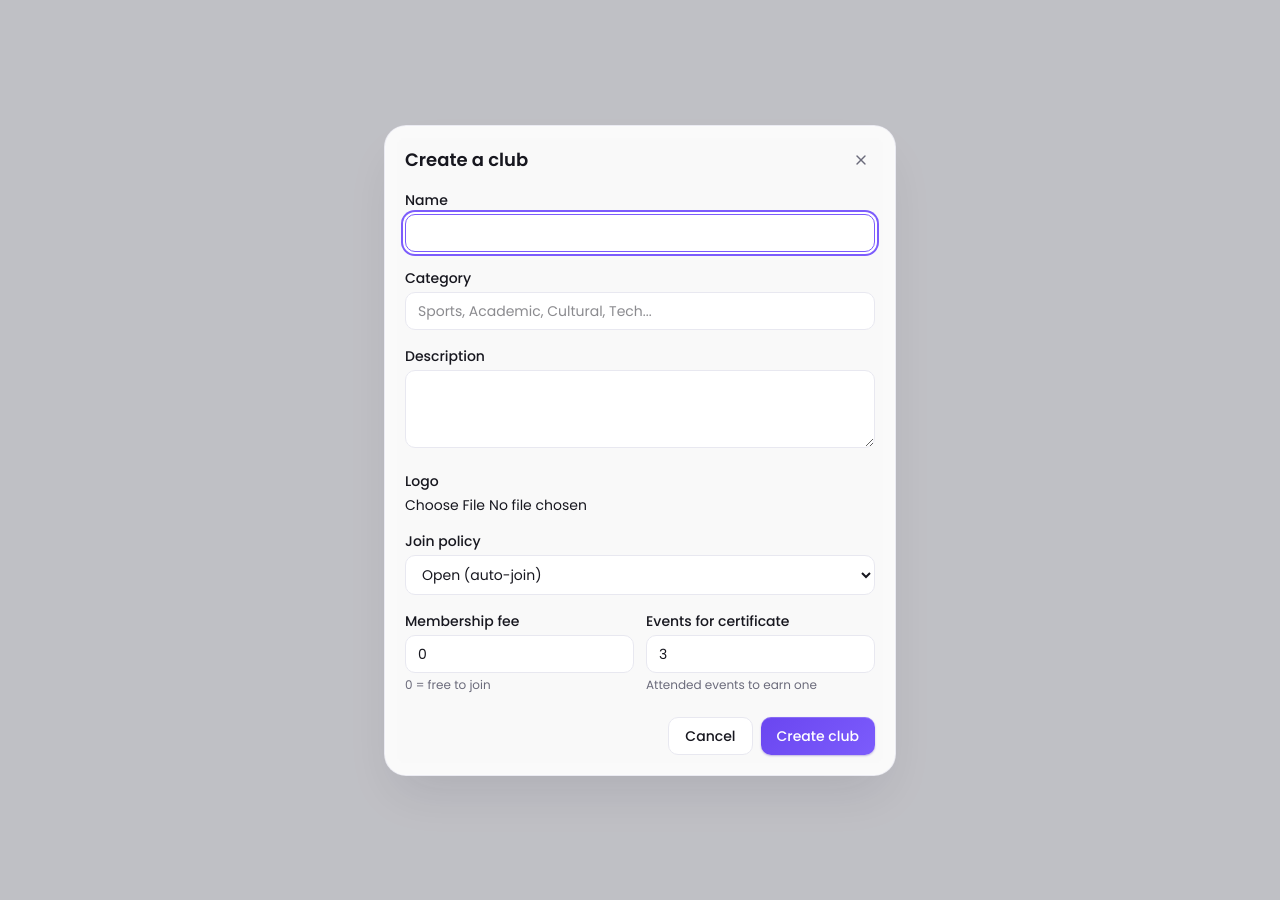
Scenario: CreateClubModal › shows a validation error when required fields are missing
What coordinates should you click on to do the following:
click the button "Create club"
I would click on:
 (818, 736)
Its box is [760,716,875,754].
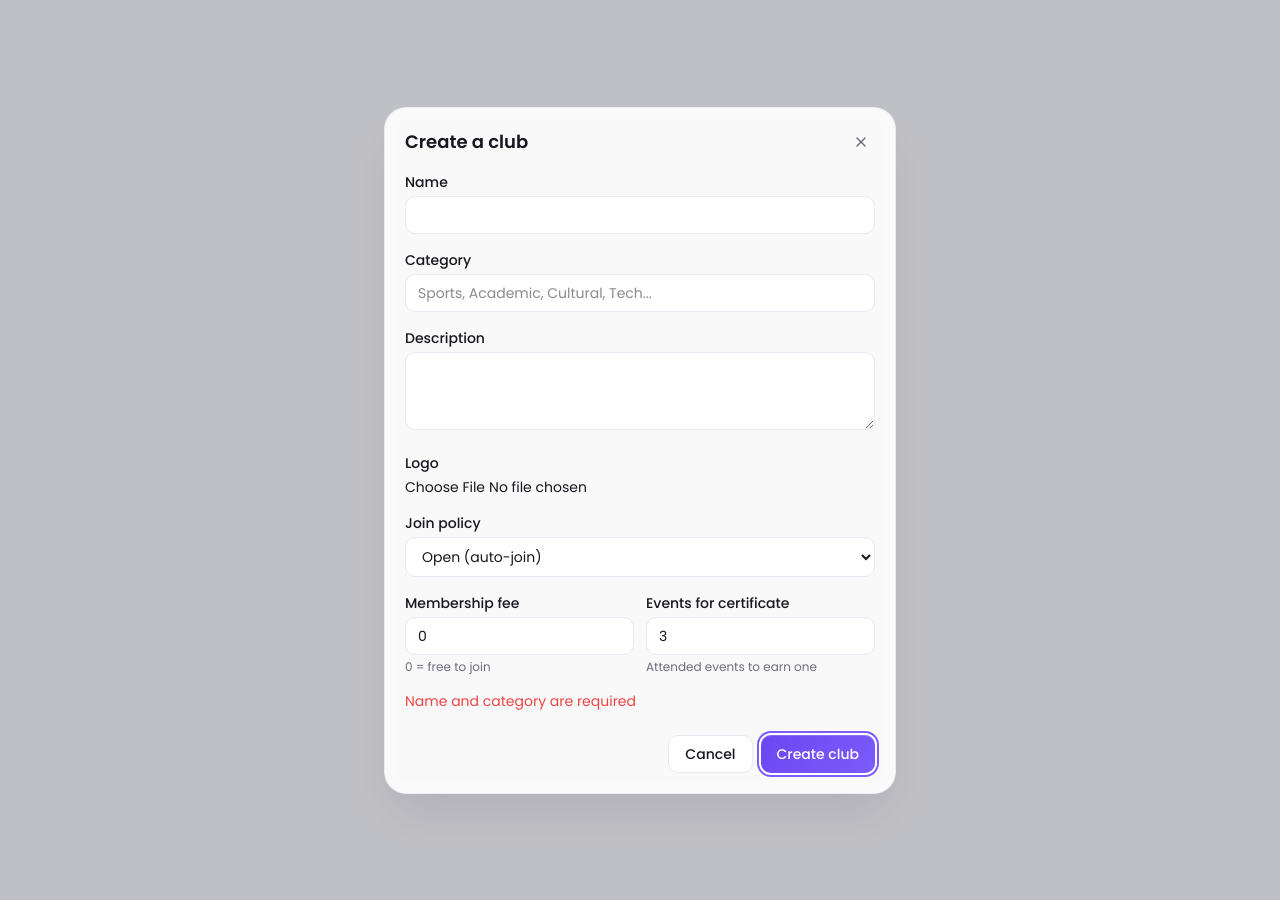
Expected: the text "Name and category are required" is shown, [405,690,636,710]
